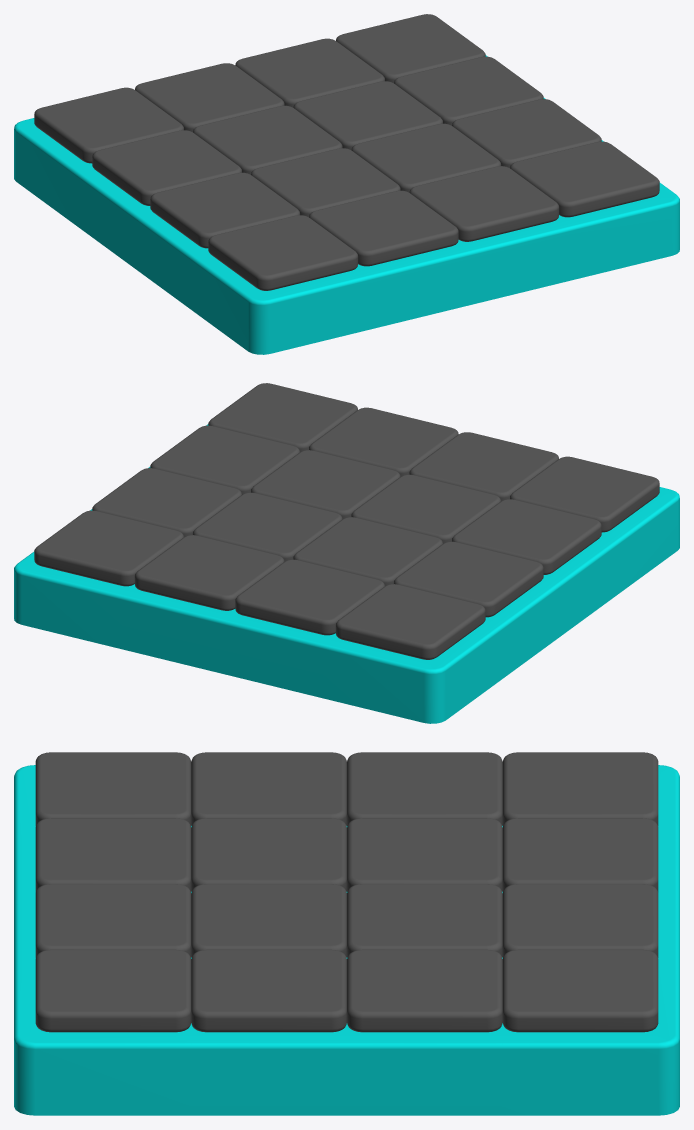
The model's file is Gid4x4.fbx.
3 renders of one model, top to bottom at view 1: azimuth 30°, elevation 25°; view 2: azimuth 150°, elevation 25°; view 3: azimuth 270°, elevation 25°, orthographic. The views are drawn at different scales.
Visible parts, largest first — view 1: GridStand, f46, f32, f25, f39, f47, f49, f48, f33, f35, f34, f40 (+5 smaller); view 2: GridStand, f49, f35, f28, f42, f48, f46, f47, f32, f34, f33, f41 (+5 smaller); view 3: GridStand, f25, f28, f26, f27, f46, f49, f39, f42, f32, f35, f47 (+5 smaller).
Part boxes in pixels (left/top/right/bottom): GridStand: left=14, top=55, right=679, bottom=354; f46: left=208, top=215, right=358, bottom=290; f32: left=409, top=166, right=559, bottom=241; f25: left=510, top=141, right=659, bottom=217; f39: left=309, top=190, right=458, bottom=266; f47: left=150, top=172, right=300, bottom=248; f49: left=34, top=87, right=183, bottom=163; f48: left=92, top=130, right=241, bottom=205; f33: left=351, top=123, right=501, bottom=192; f35: left=235, top=38, right=384, bottom=107; f34: left=293, top=81, right=442, bottom=150; f40: left=251, top=148, right=400, bottom=217; GridStand: left=14, top=424, right=679, bottom=723; f49: left=335, top=584, right=485, bottom=659; f35: left=134, top=535, right=284, bottom=610; f28: left=34, top=510, right=183, bottom=586; f42: left=235, top=559, right=384, bottom=635; f48: left=393, top=541, right=543, bottom=617; f46: left=510, top=456, right=659, bottom=532; f47: left=452, top=499, right=601, bottom=574; f32: left=309, top=407, right=458, bottom=476; f34: left=192, top=492, right=342, bottom=561; f33: left=251, top=450, right=400, bottom=519; f41: left=293, top=517, right=442, bottom=586; GridStand: left=14, top=765, right=679, bottom=1115; f25: left=35, top=949, right=191, bottom=1032; f28: left=502, top=949, right=658, bottom=1032; f26: left=191, top=949, right=346, bottom=1032; f27: left=347, top=949, right=502, bottom=1032; f46: left=35, top=752, right=191, bottom=825; f49: left=502, top=752, right=658, bottom=825; f39: left=35, top=818, right=191, bottom=891; f42: left=502, top=818, right=658, bottom=891; f32: left=35, top=884, right=191, bottom=957; f35: left=502, top=884, right=658, bottom=957; f47: left=191, top=752, right=346, bottom=825.
Size of the model in its own units: 14.69 by 2.26 by 14.69.
